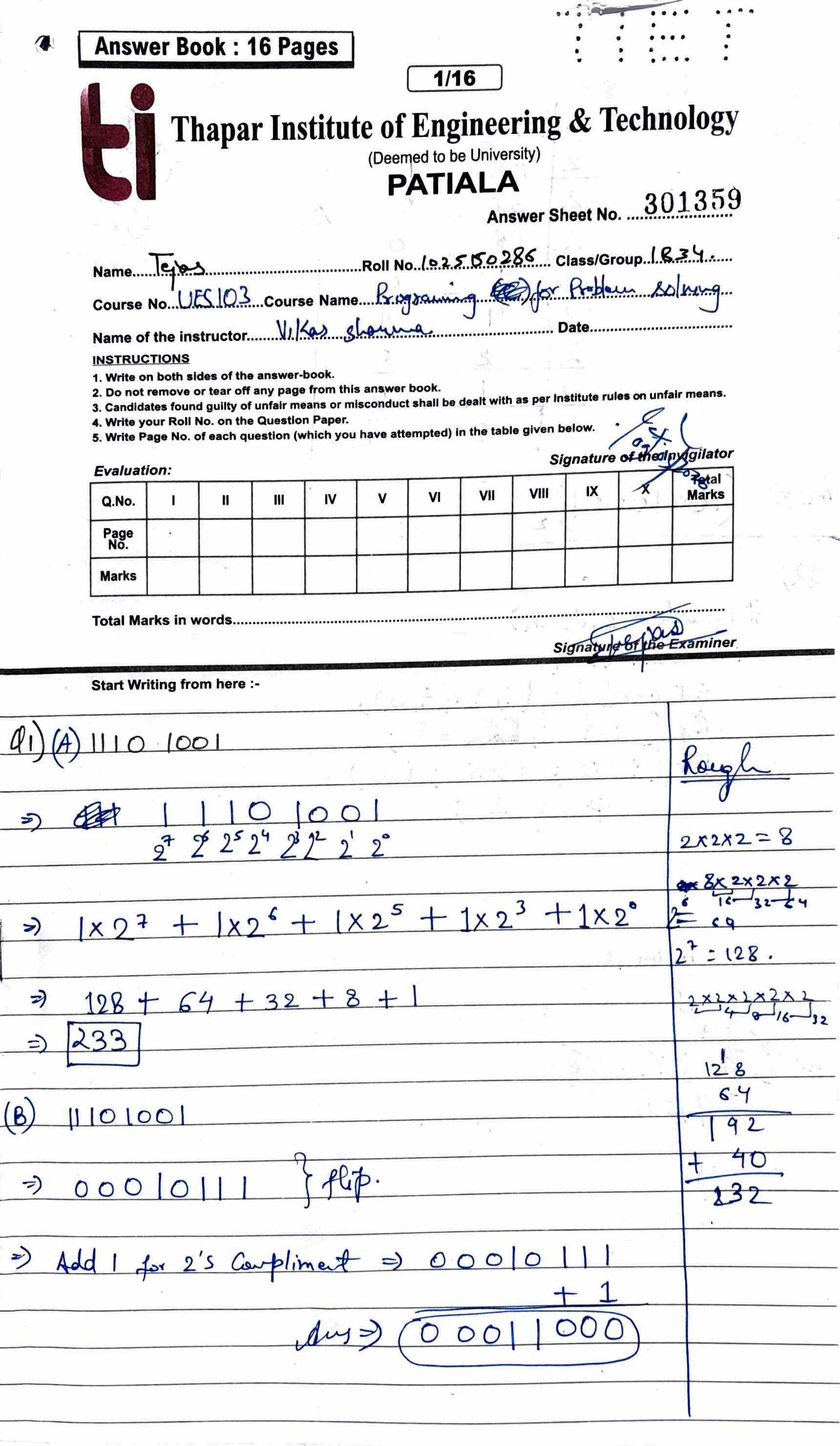cuttings: (71, 799, 123, 833), (489, 276, 531, 307), (674, 878, 699, 894)
